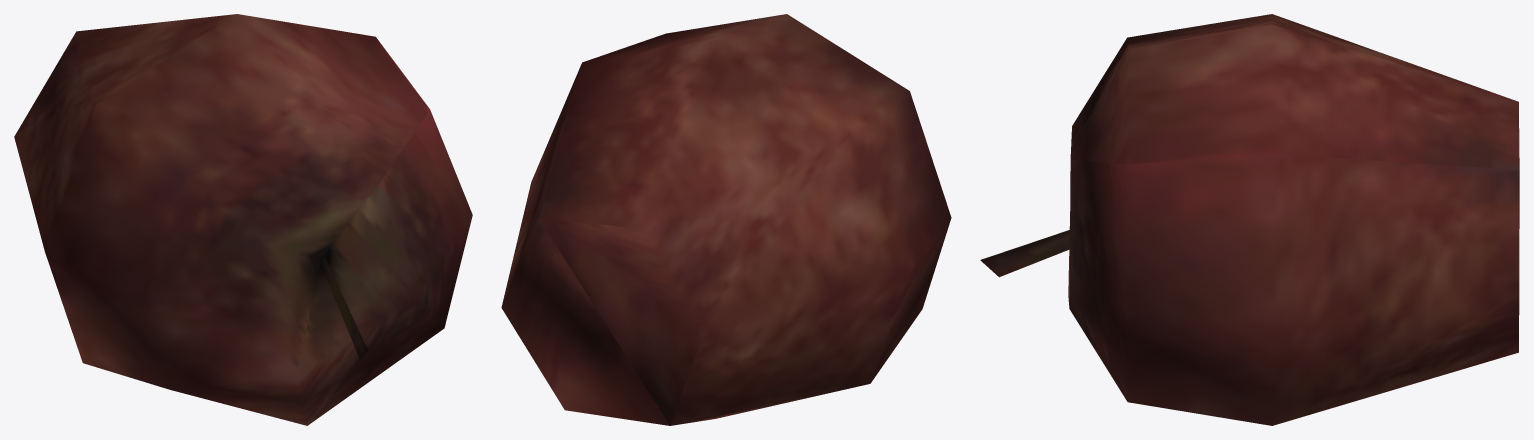
The model's file is p_jun_fruit_apple_LOD1.obj.
3 views of the same model, side by side, from view 1: azimuth 30°, elevation 25°; view 2: azimuth 150°, elevation 25°; view 3: azimuth 270°, elevation 25° (orthographic). The views are drawn at different scales.
Visible parts, largest first — view 1: mtl_p_jun_fruit_apple; view 2: mtl_p_jun_fruit_apple; view 3: mtl_p_jun_fruit_apple.
Boxes of the visible parts, box(x1,y1,x2,y2) form: mtl_p_jun_fruit_apple: box(14, 14, 472, 425); mtl_p_jun_fruit_apple: box(501, 14, 951, 425); mtl_p_jun_fruit_apple: box(980, 14, 1519, 425).
Size of the model in its own units: 10.68 by 10.27 by 12.58.
